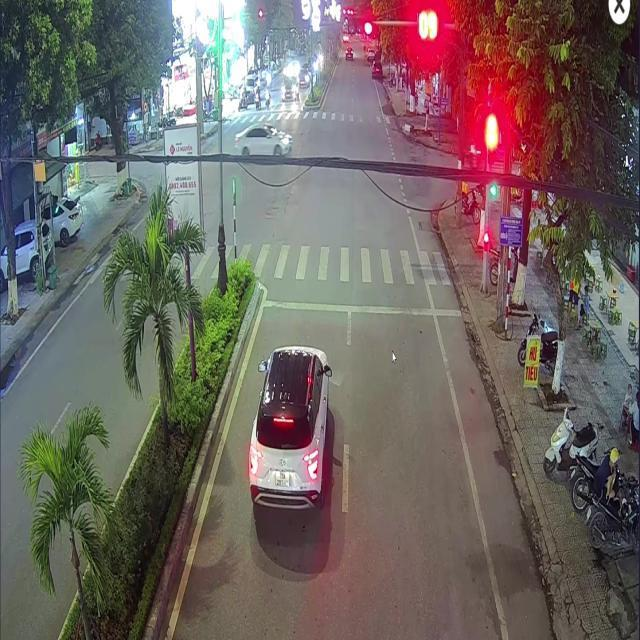car: (248, 345, 331, 508), (234, 124, 292, 155), (371, 61, 382, 78)
red_light: (347, 17, 372, 35), (487, 129, 494, 163), (483, 231, 486, 250)
stop_line: (262, 299, 461, 315)
